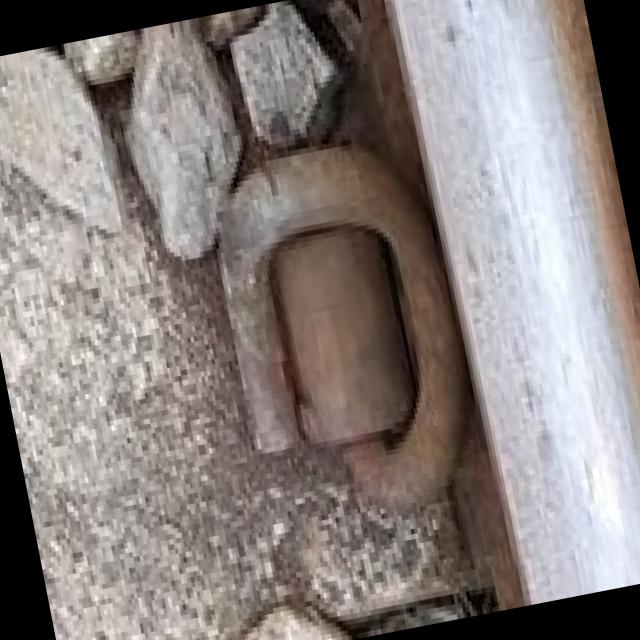track_bolt: (189, 118, 496, 548)
